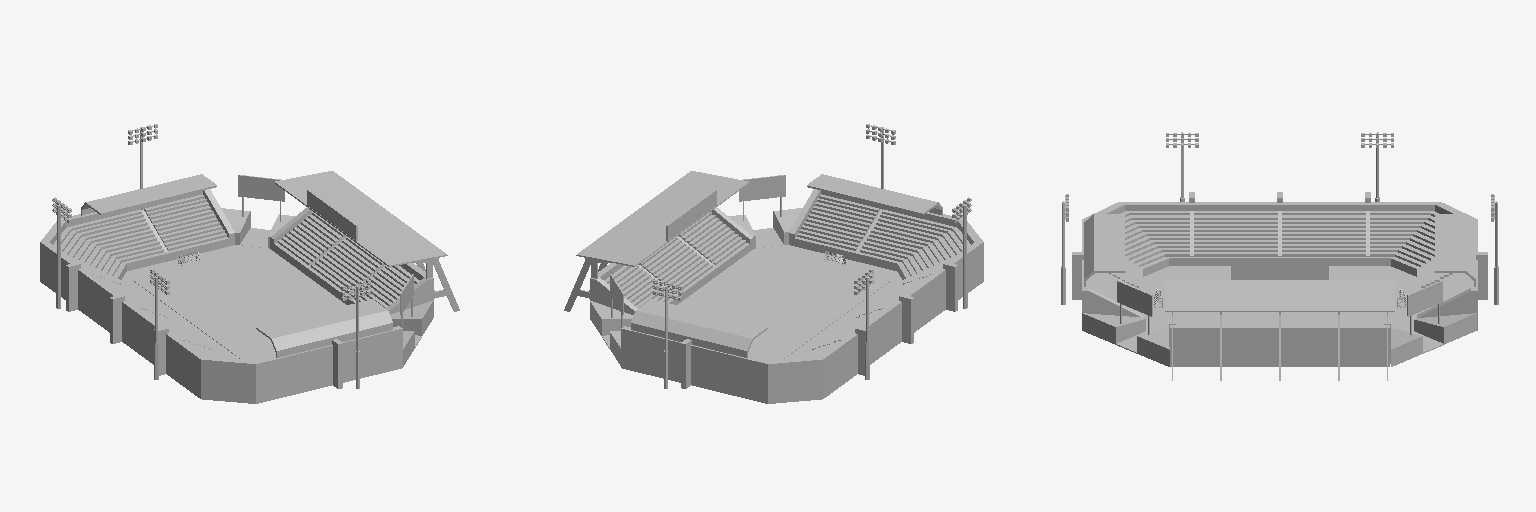
File: Building_Stadium.obj
The picture shows the model from 3 angles: view 1: azimuth 30°, elevation 25°; view 2: azimuth 150°, elevation 25°; view 3: azimuth 270°, elevation 25°; orthographic projection.
Visible parts, largest first — view 1: Building_Stadium; view 2: Building_Stadium; view 3: Building_Stadium.
Boxes of the visible parts, <box> form: Building_Stadium: <box>40,124,459,403</box>; Building_Stadium: <box>564,124,983,403</box>; Building_Stadium: <box>1061,132,1498,380</box>.
Bounding box in the file's own units: 1396 × 462 × 1762.